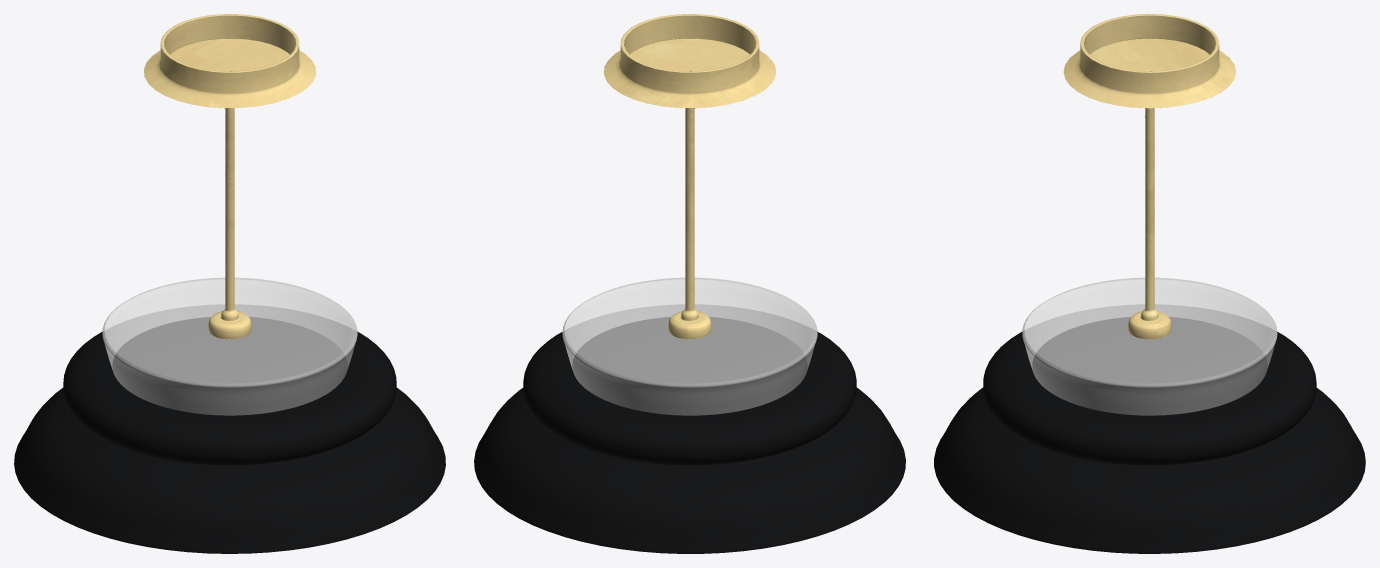
File: wac-capulet-pendant.glb
3 views of the same model, side by side, from view 1: azimuth 30°, elevation 25°; view 2: azimuth 150°, elevation 25°; view 3: azimuth 270°, elevation 25° (orthographic).
Parts seen in each view (by area): view 1: cover, base, hanging-stand; view 2: cover, base, hanging-stand; view 3: cover, base, hanging-stand.
Part boxes in pixels (x1,y1,x2,y2): cover: [14, 316, 445, 553]; base: [102, 277, 357, 415]; hanging-stand: [144, 14, 315, 339]; cover: [474, 317, 905, 553]; base: [562, 277, 817, 415]; hanging-stand: [604, 14, 775, 339]; cover: [934, 316, 1365, 553]; base: [1022, 277, 1277, 415]; hanging-stand: [1063, 14, 1235, 339].
Size of the model in its own units: 0.7447 by 0.807 by 0.7445.
Materials: 4 (2 with a texture image).
